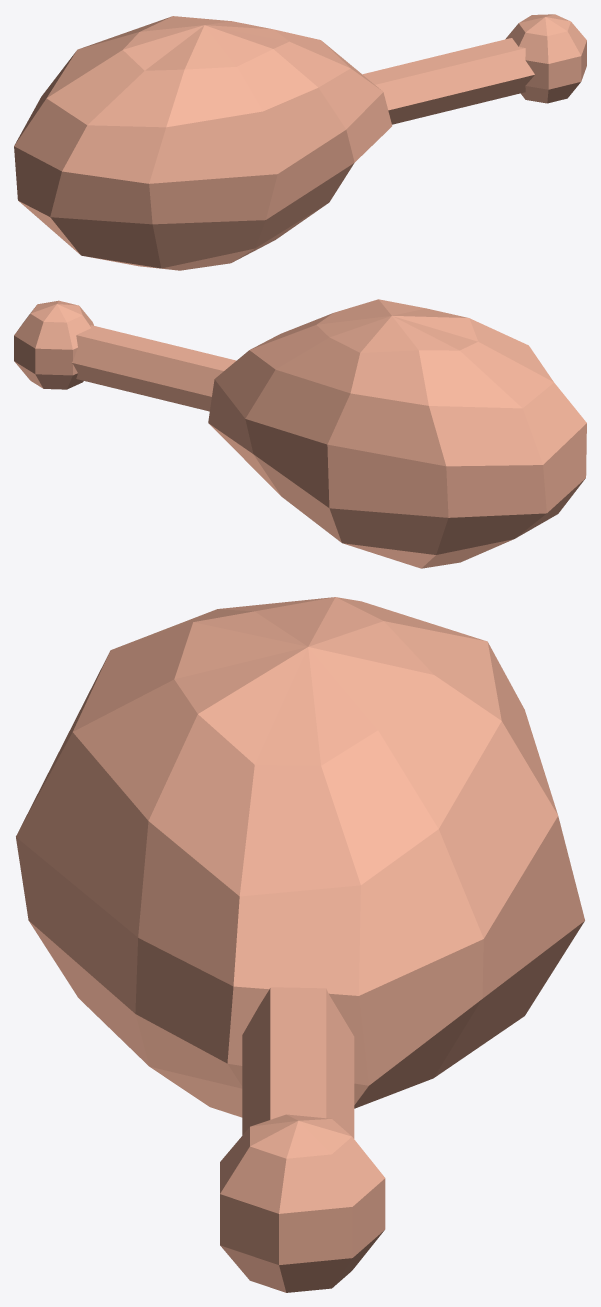
The model's file is chicken_piece_whole.glb.
The picture shows the model from 3 angles, top to bottom: view 1: azimuth 30°, elevation 25°; view 2: azimuth 150°, elevation 25°; view 3: azimuth 270°, elevation 25°; orthographic projection. The views are drawn at different scales.
Parts seen in each view (by area): view 1: chicken_piece_whole_0; view 2: chicken_piece_whole_0; view 3: chicken_piece_whole_0.
Boxes of the visible parts, x1,y1,x2,y2 form: chicken_piece_whole_0: (14,14,586,270); chicken_piece_whole_0: (14,299,586,568); chicken_piece_whole_0: (16,597,584,1292).
Size of the model in its own units: 0.249 by 0.0987 by 0.112.
